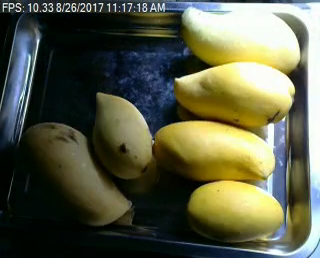Mango: (22, 123, 131, 225), (181, 6, 300, 75), (173, 60, 296, 126), (155, 120, 274, 182), (185, 180, 283, 243), (92, 90, 152, 180)
